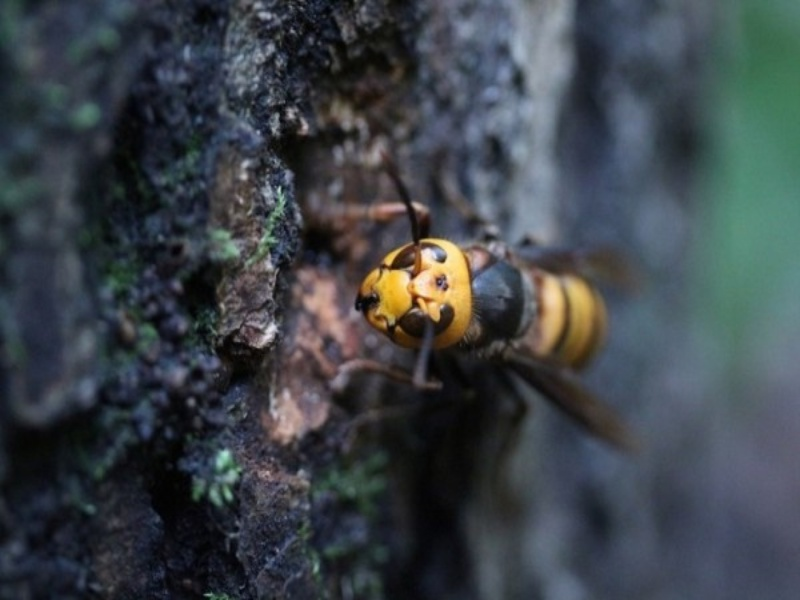asian_giant_hornet: (355, 206, 613, 393)
